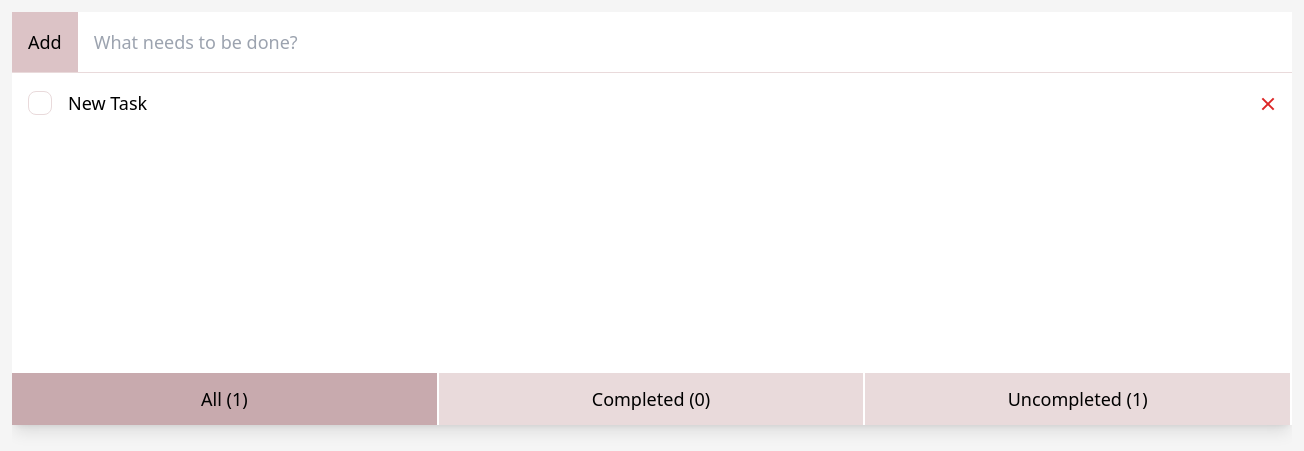
Scenario: App › should filter tasks
Type "Task 1" into the field with placeholder "What needs to be done?" at (685, 42), box [78,12,1292,72]
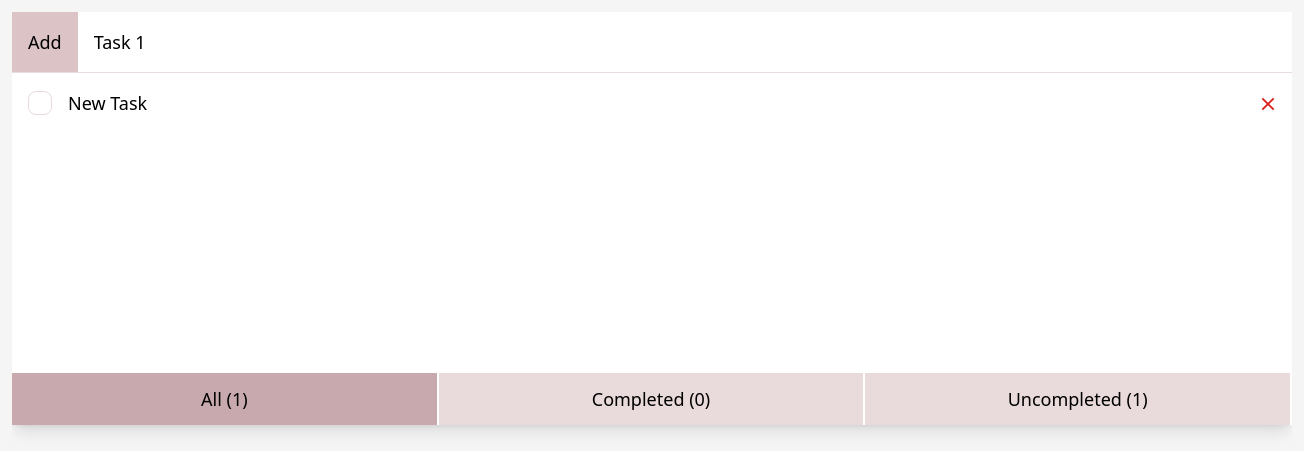
Click the button "Add" at (45, 42), box [12,12,78,72]
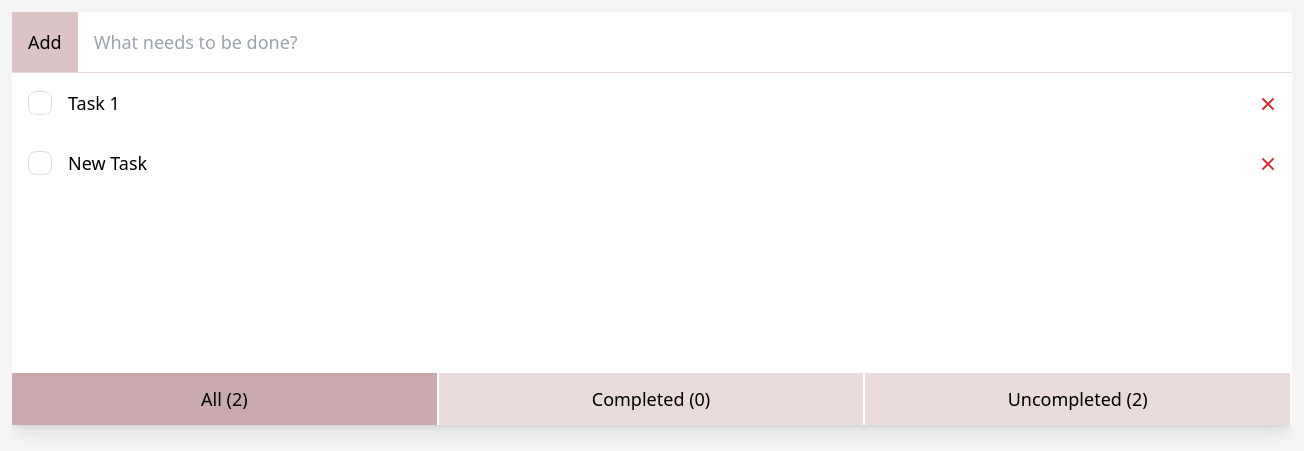
Type "Task 2" into the field with placeholder "What needs to be done?" at (685, 42), box [78,12,1292,72]
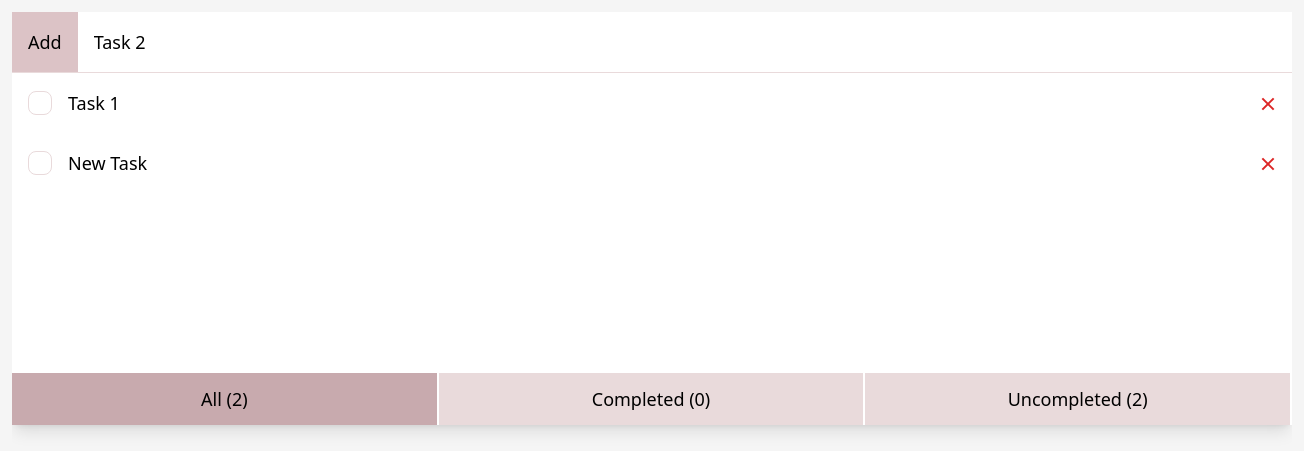
Click the button "Add" at (45, 42), box [12,12,78,72]
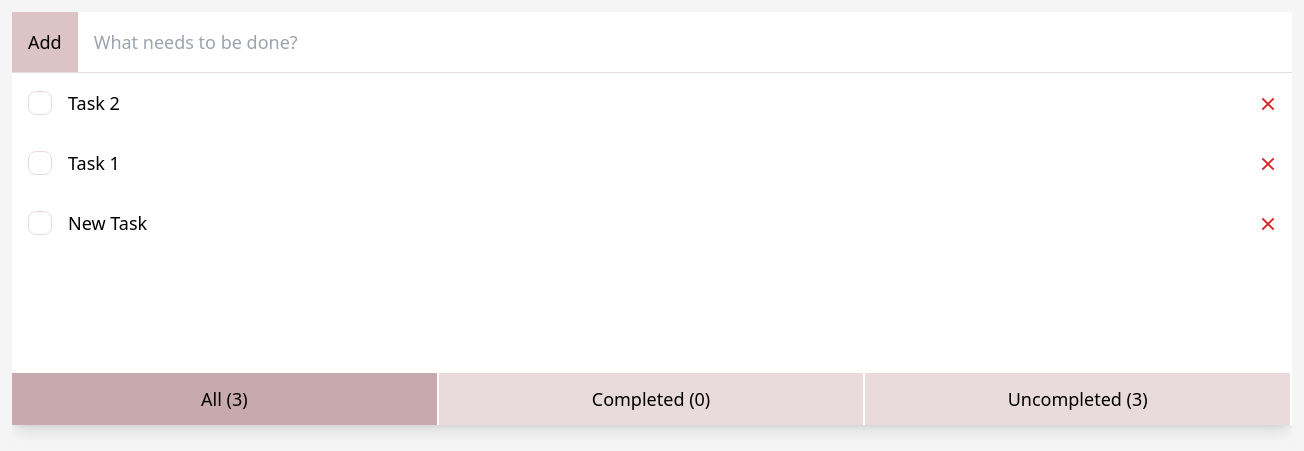
Click the text "Task 1" at (94, 163), box [68,149,120,177]
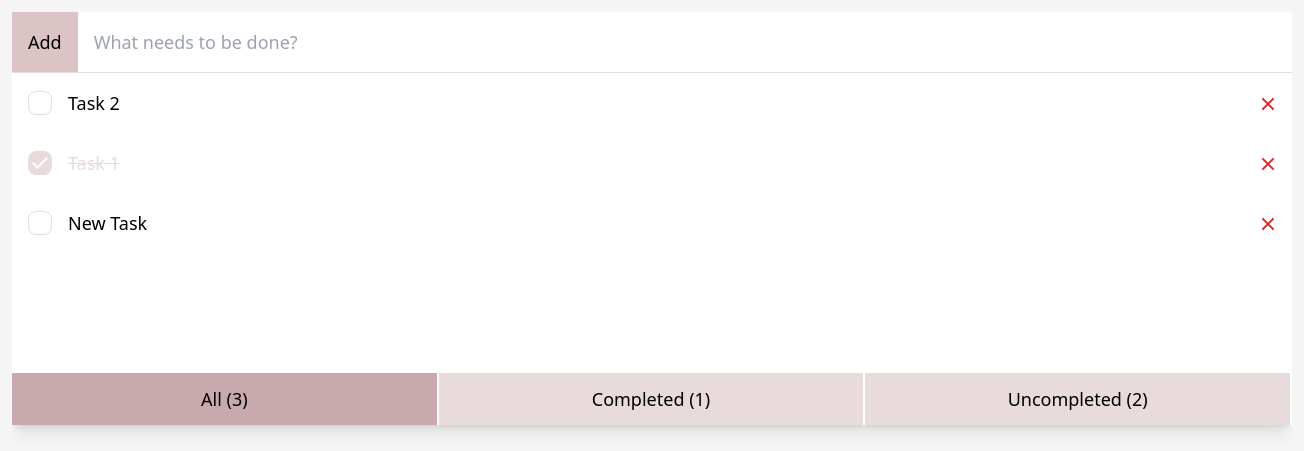
Click the button "Completed (1)" at (652, 399), box [439,373,865,425]
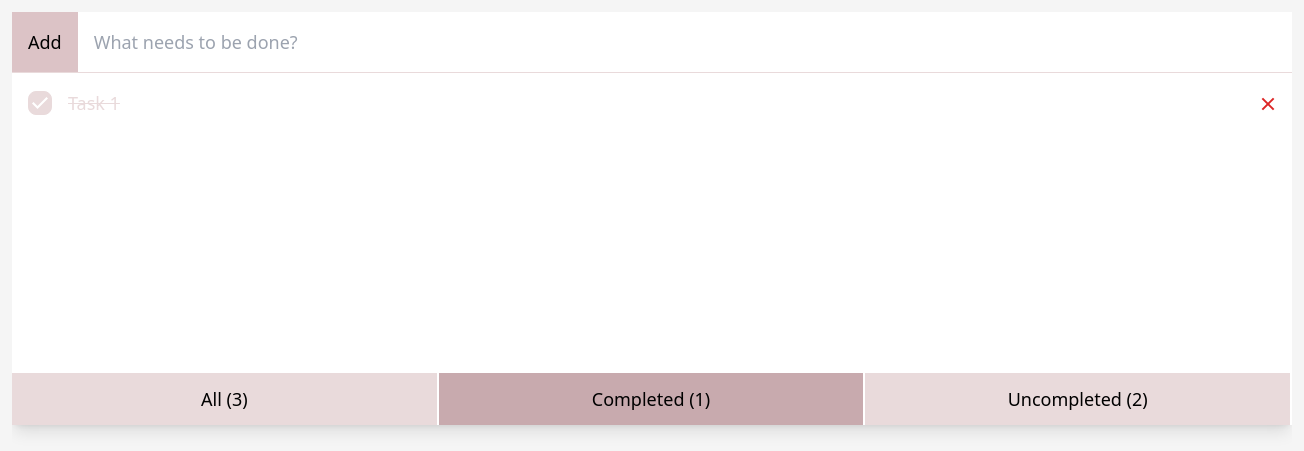
Now the text "Task 1" is shown, box [68,89,120,117]
Now the text "Task 2" is gone
